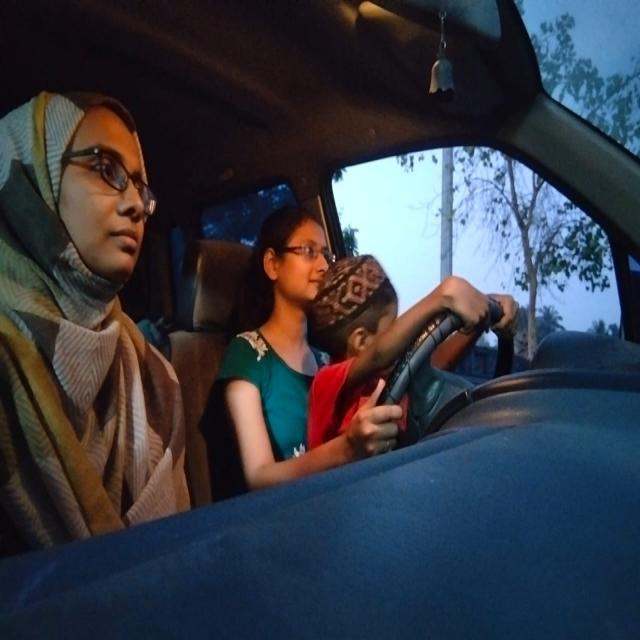child: (320, 253, 409, 364)
person: (0, 75, 167, 397), (248, 188, 338, 312)
